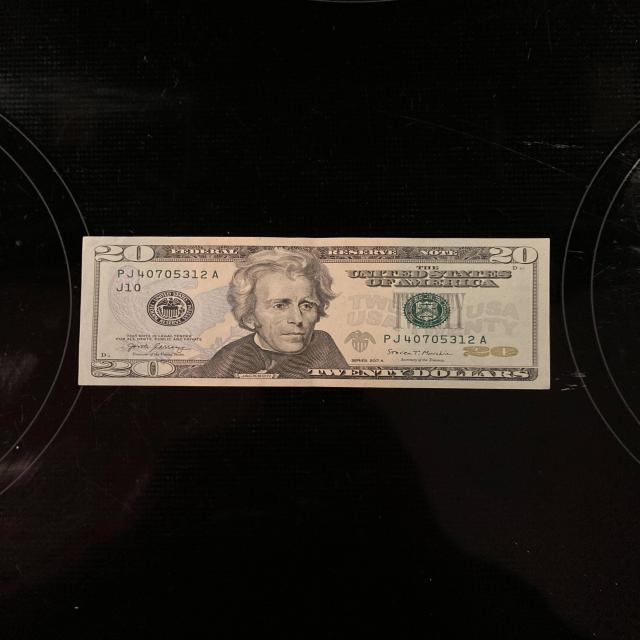twenty: (79, 237, 551, 390)
